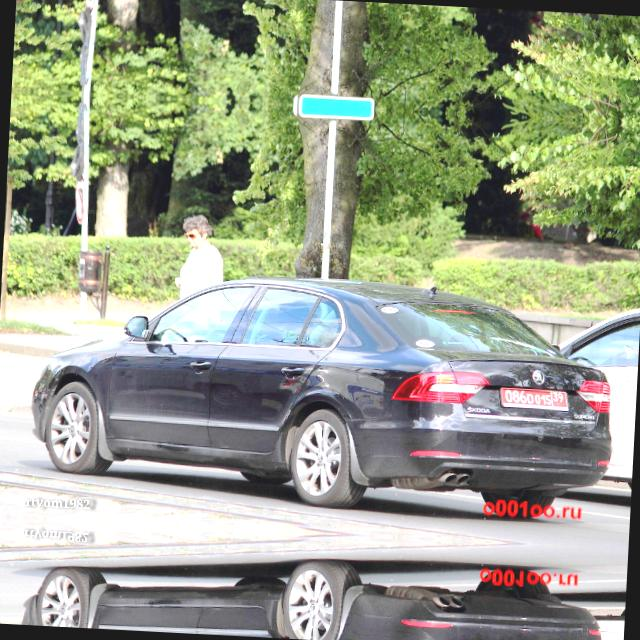diplomatic: (496, 384, 572, 416)
